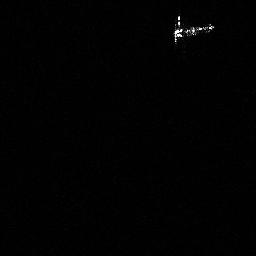ship: (170, 13, 216, 46)
